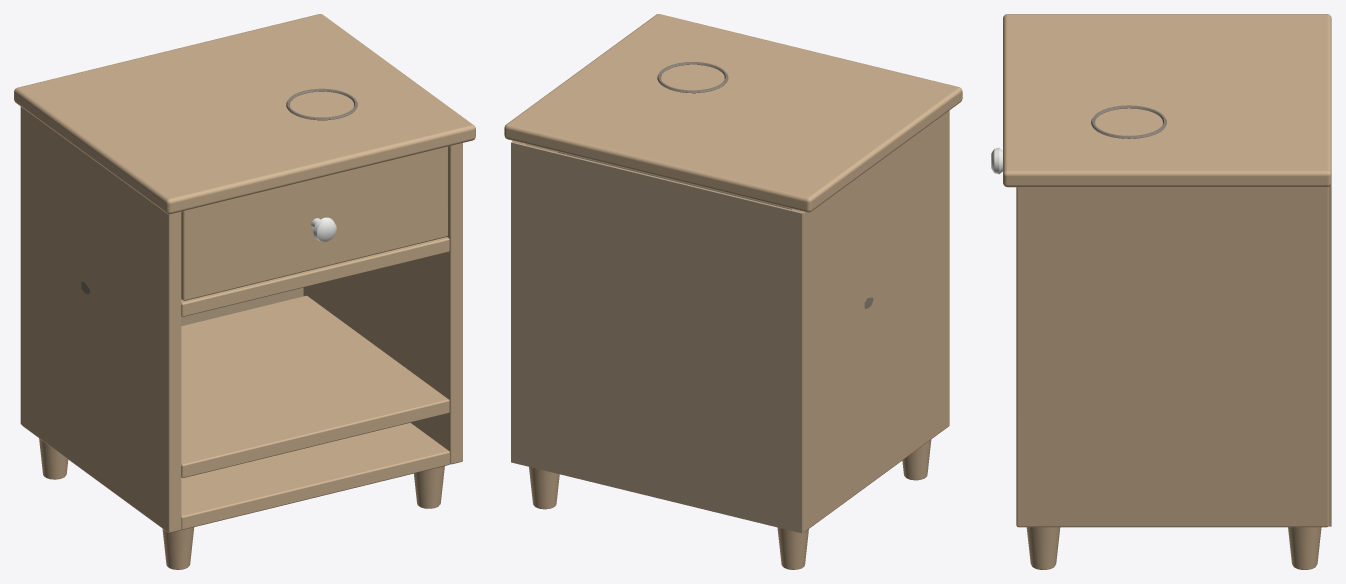
Rendered from furniture_bedside_table.fbx.
The picture shows the model from 3 angles, left to right: view 1: azimuth 30°, elevation 25°; view 2: azimuth 150°, elevation 25°; view 3: azimuth 270°, elevation 25°; orthographic projection. The views are drawn at different scales.
Parts seen in each view (by area): view 1: body, drawer_1; view 2: body; view 3: body.
Boxes of the visible parts, left/top/right/bottom form: body: left=14, top=14, right=475, bottom=569; drawer_1: left=181, top=146, right=447, bottom=300; body: left=504, top=14, right=962, bottom=569; body: left=1003, top=14, right=1331, bottom=569.
Bounding box in the file's own units: 0.42 × 0.5023 × 0.378.
